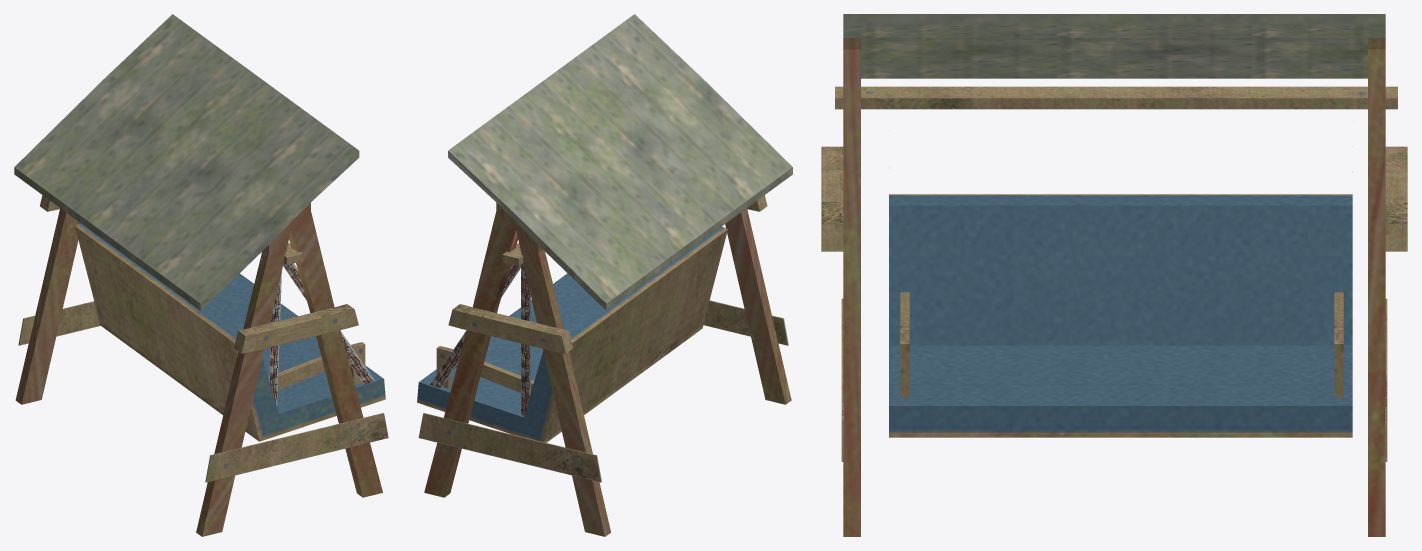
Rendered from swingCouch.glb.
3 views of the same model, side by side, from view 1: azimuth 30°, elevation 25°; view 2: azimuth 150°, elevation 25°; view 3: azimuth 270°, elevation 25° (orthographic). The views are drawn at different scales.
Parts seen in each view (by area): view 1: SM_SwingCouch; view 2: SM_SwingCouch; view 3: SM_SwingCouch.
Boxes of the visible parts, x1,y1,x2,y2 form: SM_SwingCouch: (14,14,388,536); SM_SwingCouch: (417,14,792,536); SM_SwingCouch: (821,14,1407,536).
Size of the model in its own units: 1.36 by 2.25 by 2.36.
1 material, 1 textured.
